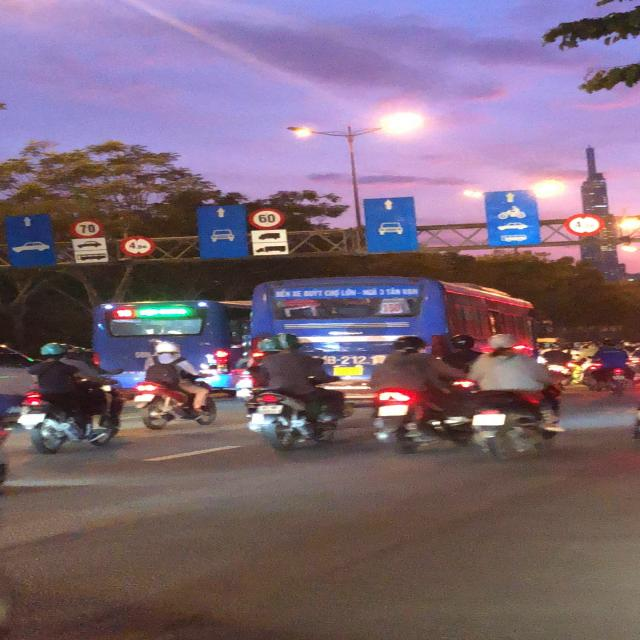Bien bao han che chieu cao: (119, 234, 157, 258)
Bien bao toc do toi da cho phep: (66, 216, 108, 239), (248, 206, 288, 230)
